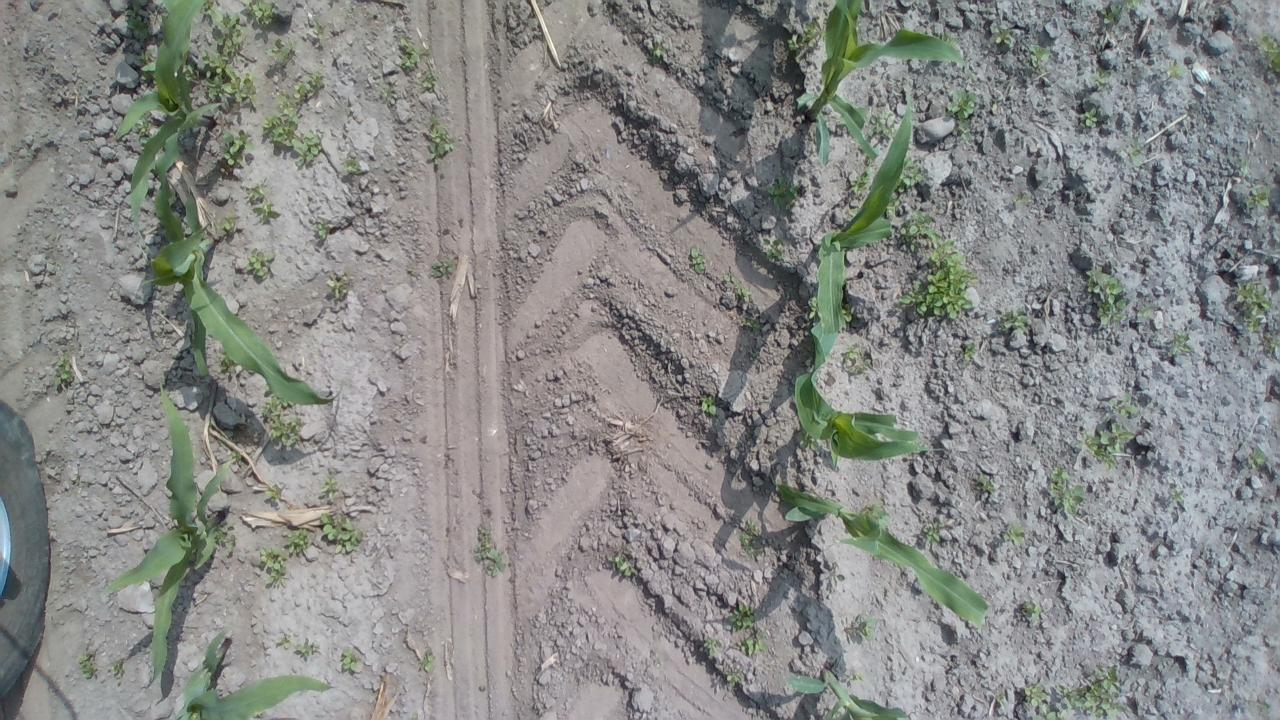Maize: (154, 170, 340, 408), (100, 383, 234, 685), (775, 481, 989, 630), (815, 95, 920, 373), (794, 0, 968, 163), (113, 0, 227, 222), (790, 304, 929, 470), (176, 634, 335, 720), (786, 664, 910, 720)
Weeds: (895, 208, 978, 321), (260, 71, 324, 148), (1055, 663, 1128, 720), (198, 48, 258, 110), (1074, 422, 1136, 472), (1084, 268, 1130, 324), (258, 394, 304, 446), (1232, 282, 1272, 335), (204, 2, 248, 46), (320, 512, 364, 554), (945, 87, 978, 142), (1048, 468, 1084, 516), (474, 526, 504, 576), (424, 113, 455, 161), (221, 127, 257, 168), (396, 36, 432, 72), (260, 545, 290, 588), (244, 182, 274, 223), (242, 247, 276, 282), (767, 174, 800, 210), (290, 129, 321, 167), (123, 0, 150, 40), (865, 106, 895, 140), (898, 156, 927, 190), (1100, 0, 1141, 24), (240, 0, 276, 27), (1257, 32, 1280, 73), (738, 519, 762, 558), (727, 600, 758, 630), (263, 37, 297, 64), (842, 346, 872, 376), (737, 628, 768, 656), (846, 614, 878, 641), (47, 355, 74, 386), (212, 523, 236, 557), (219, 356, 247, 385), (1110, 391, 1139, 419), (799, 22, 828, 48), (849, 166, 875, 194), (134, 48, 156, 81), (996, 308, 1028, 330), (760, 237, 786, 264), (287, 526, 312, 554), (338, 646, 362, 674), (1120, 135, 1144, 163), (922, 518, 943, 550), (1247, 184, 1273, 209), (134, 110, 152, 146), (608, 552, 632, 577), (1169, 328, 1191, 354), (308, 20, 330, 46), (78, 650, 97, 680), (869, 503, 892, 526), (417, 70, 440, 92), (1024, 685, 1048, 706), (429, 260, 456, 278), (1029, 46, 1052, 67), (325, 276, 345, 300), (886, 190, 904, 216), (700, 394, 721, 416), (1002, 524, 1025, 544), (416, 652, 437, 673), (976, 474, 996, 496), (690, 246, 706, 273), (992, 23, 1012, 44), (1248, 448, 1268, 469), (168, 192, 182, 221), (380, 86, 400, 106), (320, 478, 338, 500), (1080, 108, 1098, 130), (214, 214, 236, 232), (798, 430, 817, 450), (264, 483, 282, 504), (1091, 70, 1112, 88), (1022, 600, 1040, 621), (296, 639, 315, 658), (274, 630, 294, 648), (110, 656, 128, 676), (1265, 330, 1280, 354), (313, 221, 330, 242), (741, 316, 762, 332), (1166, 63, 1185, 80), (720, 272, 740, 288), (1032, 710, 1064, 720), (808, 296, 821, 320), (1010, 194, 1032, 208), (183, 63, 199, 81), (648, 44, 662, 64), (734, 288, 754, 302), (703, 638, 718, 656), (962, 343, 976, 362), (724, 670, 740, 686), (229, 450, 244, 467), (840, 304, 854, 322), (343, 160, 361, 174), (1238, 158, 1250, 178), (847, 671, 864, 685), (830, 574, 847, 588), (844, 207, 860, 221), (1135, 305, 1150, 319), (1170, 488, 1184, 502), (994, 693, 1006, 708), (788, 35, 798, 49), (897, 25, 914, 33), (965, 72, 976, 84), (942, 30, 955, 40), (914, 440, 928, 448), (156, 14, 167, 24), (1260, 702, 1271, 712), (410, 712, 417, 720), (824, 16, 828, 23)
